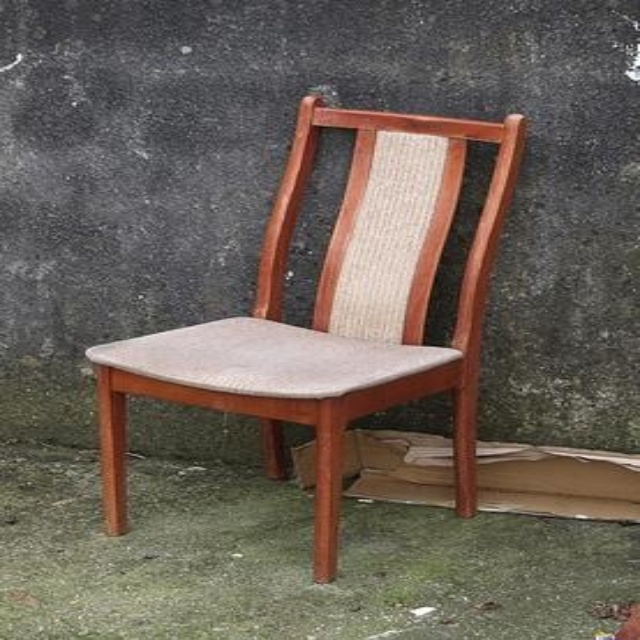obstacle: (85, 95, 522, 581)
